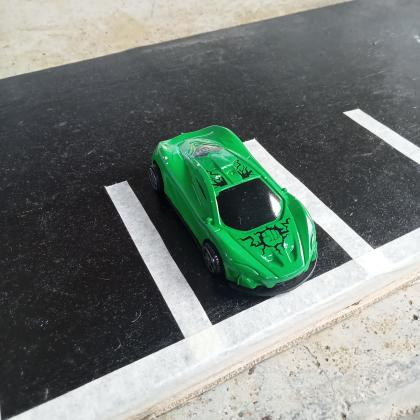Car: (150, 124, 318, 295)
